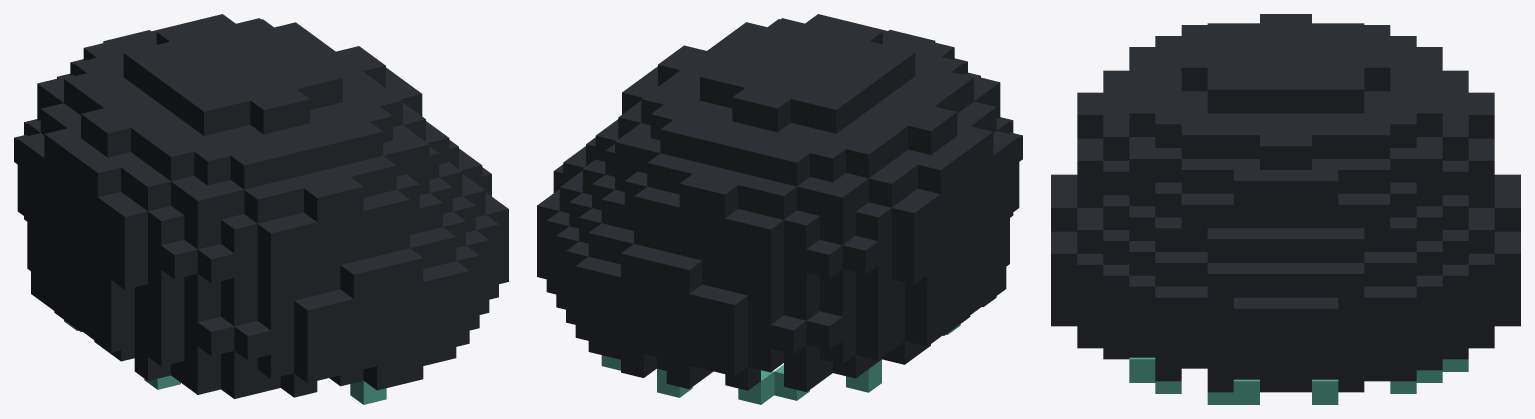
File: mystic_uncommon_shoulder_L.glb
3 views of the same model, side by side, from view 1: azimuth 30°, elevation 25°; view 2: azimuth 150°, elevation 25°; view 3: azimuth 270°, elevation 25° (orthographic). The views are drawn at different scales.
Parts seen in each view (by area): view 1: mystic_uncommon_shoulder_L; view 2: mystic_uncommon_shoulder_L; view 3: mystic_uncommon_shoulder_L.
Boxes of the visible parts, <box> form: mystic_uncommon_shoulder_L: <box>14,14,508,404</box>; mystic_uncommon_shoulder_L: <box>537,14,1022,404</box>; mystic_uncommon_shoulder_L: <box>1051,14,1520,404</box>.
Bounding box in the file's own units: 0.204 × 0.132 × 0.216.
